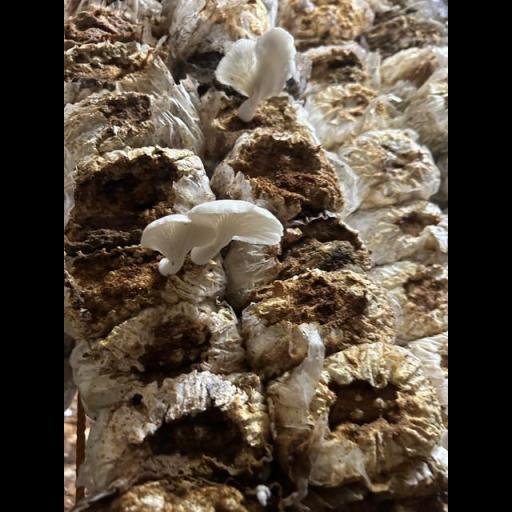White Oyster Mushroom: (143, 198, 285, 276), (218, 26, 299, 124)
